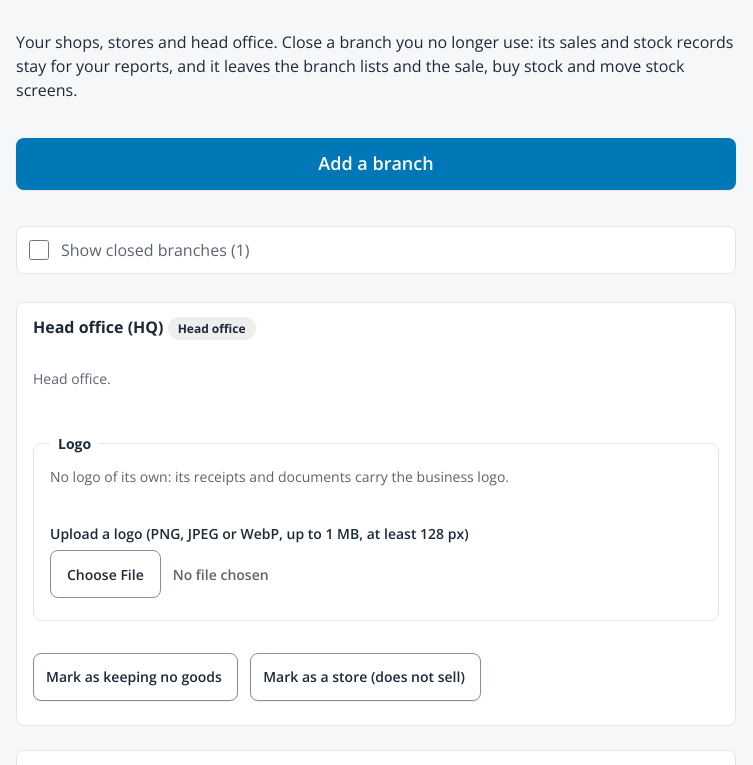
Test case: the list › hides closed branches until asked for, then shows the Closed badge, the date and the reason
The width and height of the screenshot is (753, 765).
Expected: the text "Test Old Shop (OLD)" is not shown
Step 1. Click the checkbox labelled "Show closed branches (1)" → (39, 250), box [29,240,49,260]
(page scrolled)
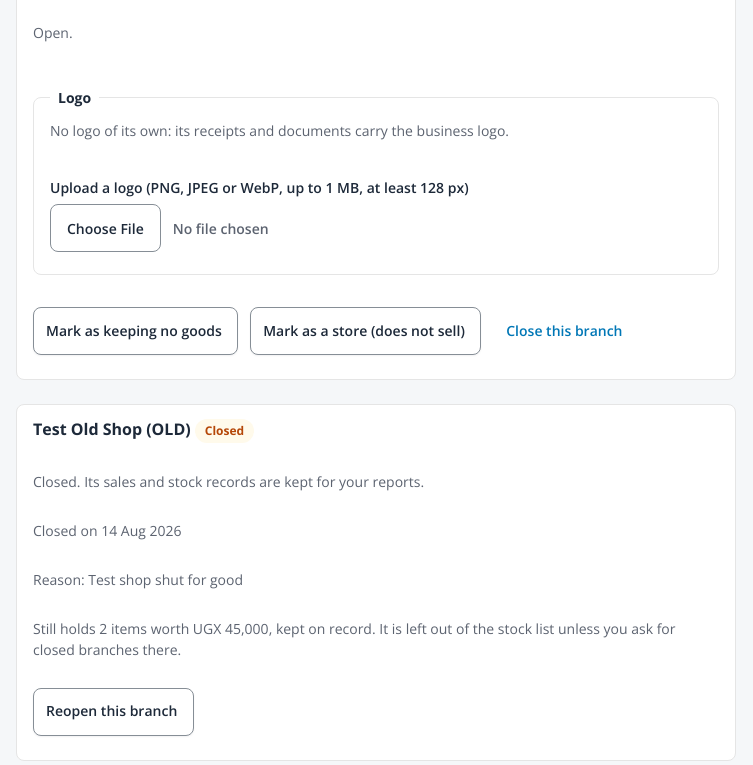
Expected: the text "Test Old Shop (OLD)" is shown, [33,418,191,440]
Expected: the text "Closed" is shown, [195,419,254,443]
Expected: the text "Closed on 14 Aug 2026" is shown, [33,521,182,540]
